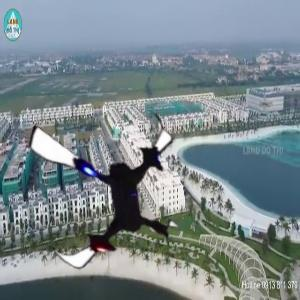drone: (13, 95, 197, 279)
